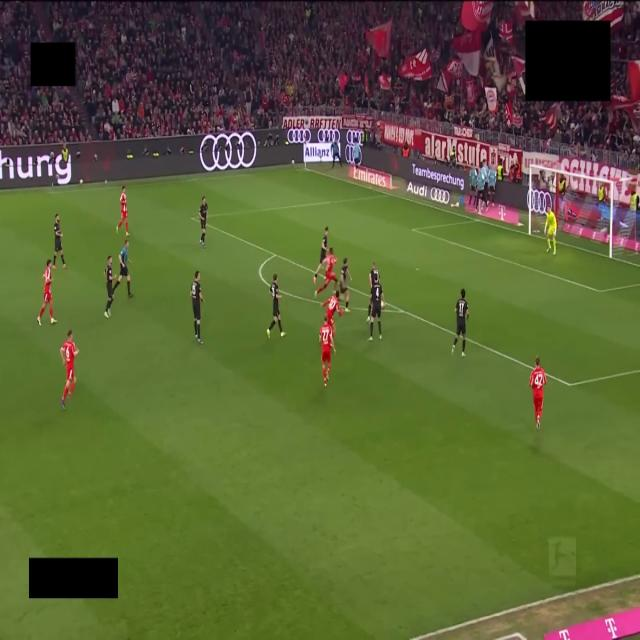ball: (381, 301, 384, 309)
player: (60, 330, 78, 408), (37, 259, 56, 325), (529, 357, 546, 430), (267, 273, 285, 337), (315, 248, 338, 296), (452, 288, 468, 357), (320, 316, 335, 386), (368, 281, 384, 341), (322, 292, 343, 334), (191, 271, 203, 344), (314, 227, 328, 285), (53, 215, 66, 269), (117, 186, 129, 236), (340, 258, 351, 312), (544, 207, 556, 255), (104, 256, 113, 318), (199, 196, 208, 248), (369, 263, 379, 289)
referee: (113, 240, 132, 297)
